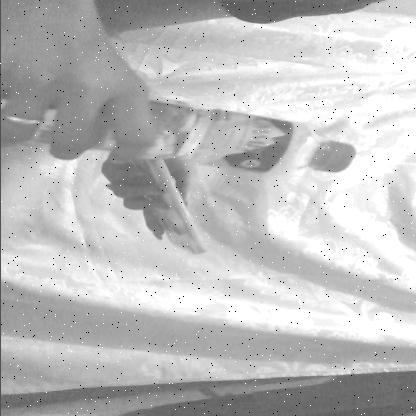Plastic Bottle: (28, 98, 385, 181)
